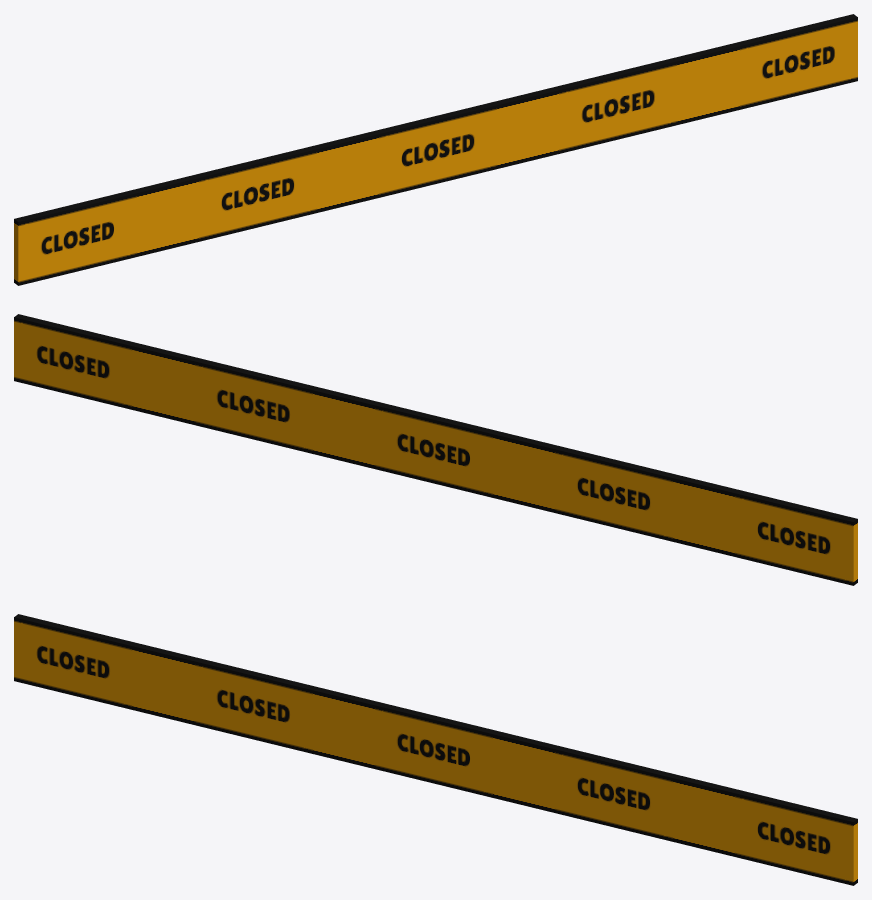
File: closed_line.fbx
The picture shows the model from 3 angles, top to bottom: view 1: azimuth 30°, elevation 25°; view 2: azimuth 150°, elevation 25°; view 3: azimuth 330°, elevation 25°; orthographic projection.
Visible parts, largest first — view 1: close_line_mesh; view 2: close_line_mesh; view 3: close_line_mesh.
Boxes of the visible parts, bbox=[...] form: close_line_mesh: bbox=[14, 14, 857, 285]; close_line_mesh: bbox=[14, 314, 857, 585]; close_line_mesh: bbox=[14, 614, 857, 885].
Bounding box in the file's own units: 6.41 × 0.4654 × 0.0584.
